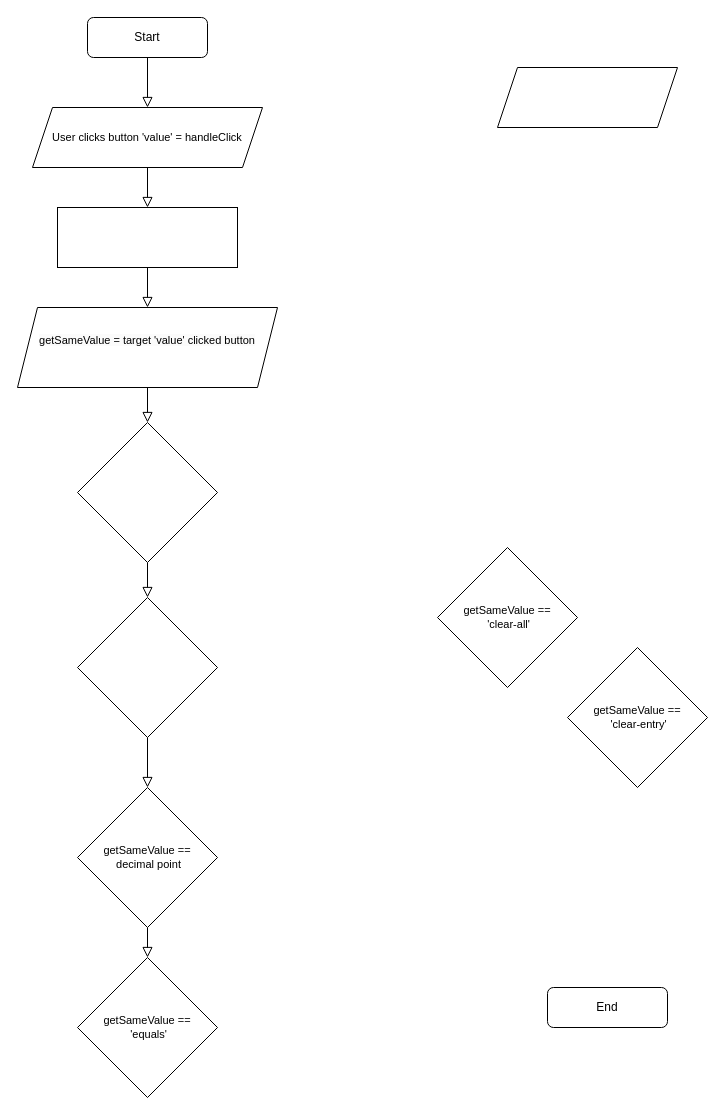
The diagram is 725 pixels wide and 1115 high, and some of its shapes have lost their labels. The centre of each missing label's shape, as x and y in pixels:
"getSameValue == +, - , /, *, % ?" belongs at (x=147, y=667).
"getSameValue == 0 - 9?" belongs at (x=147, y=492).
"handleClick = event =>" belongs at (x=147, y=237).
"Operator state" belongs at (x=587, y=97).
